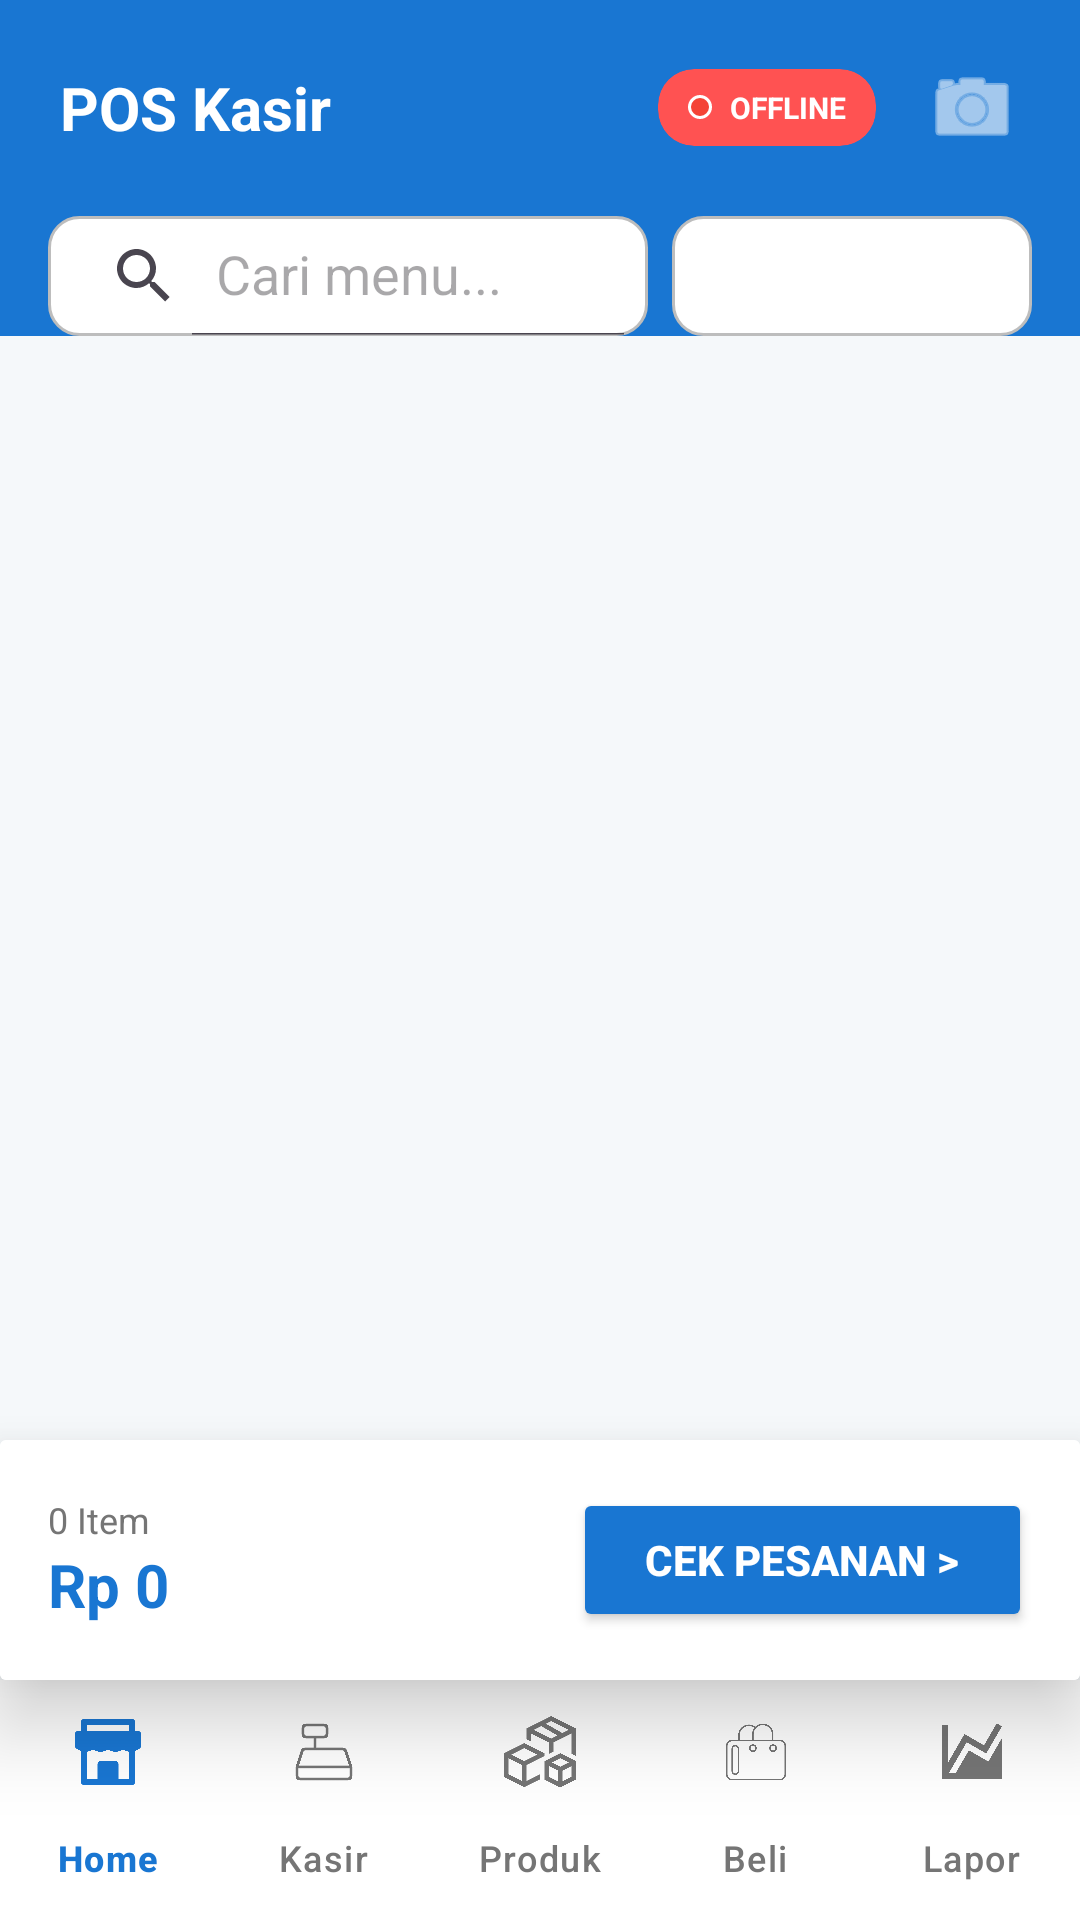

Screen size 1080*1920. Icon name, then its box in pixels as (x1, y1, x2, y2):
camera: (935, 77, 1009, 136)
